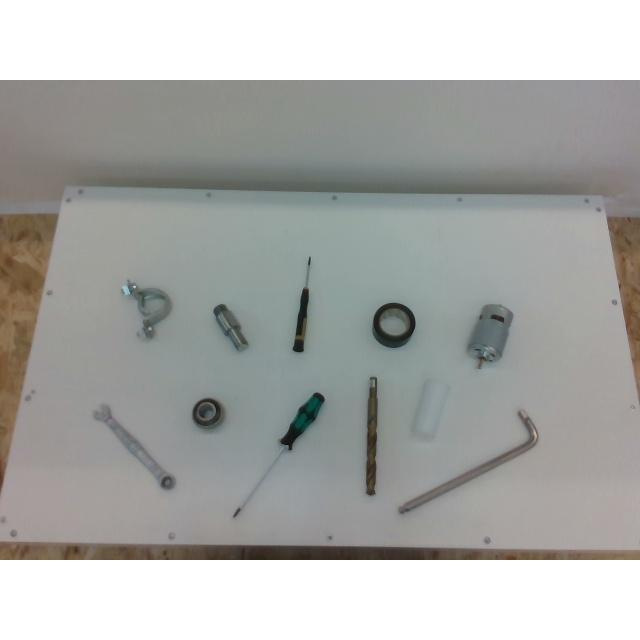AllenKey: (398, 409, 538, 513)
Axis2: (212, 304, 248, 352)
Bearing2: (192, 398, 224, 429)
Drill: (365, 376, 377, 496)
Housing: (121, 280, 171, 338)
Motor2: (467, 304, 513, 368)
Screwdriver: (232, 392, 324, 518)
Spacer: (412, 379, 448, 439)
Wrench: (93, 404, 175, 488)
